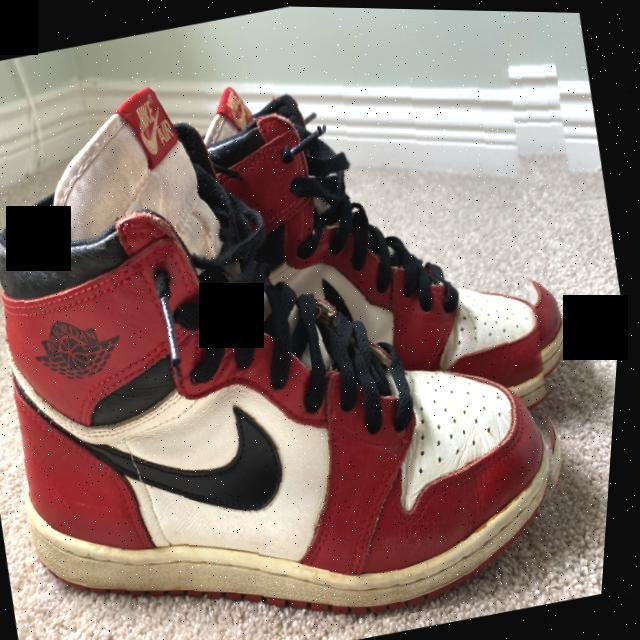shoe: (0, 0, 622, 640), (149, 6, 630, 474)
